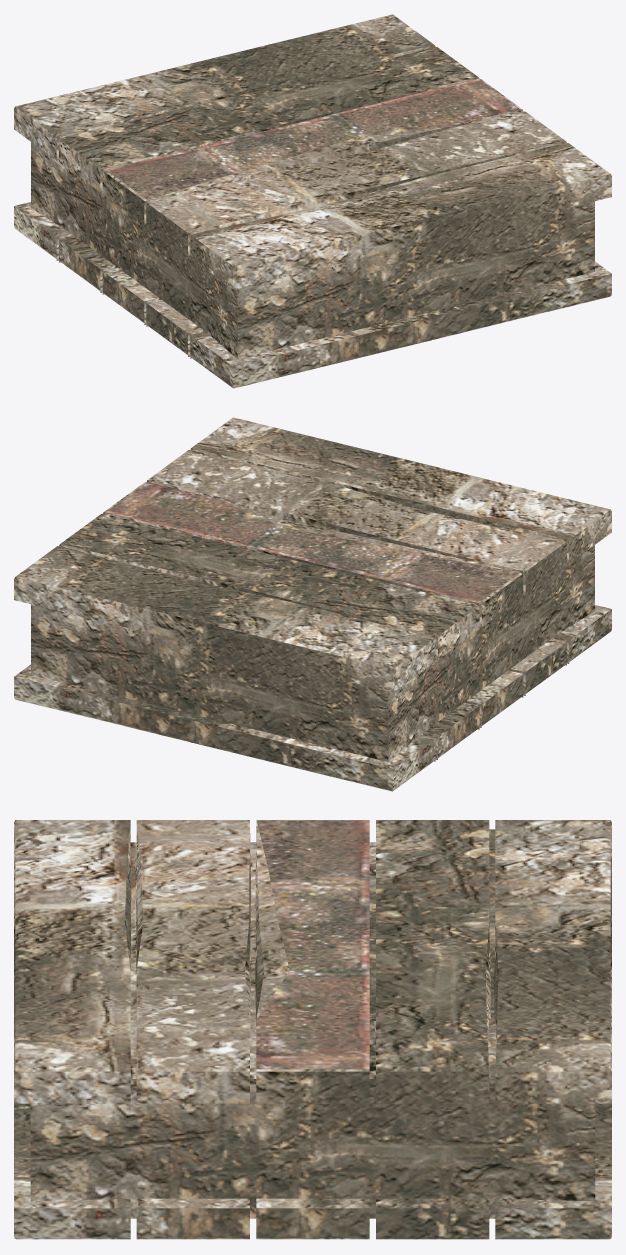
The picture shows the model from 3 angles, top to bottom: view 1: azimuth 30°, elevation 25°; view 2: azimuth 150°, elevation 25°; view 3: azimuth 270°, elevation 25°; orthographic projection. The views are drawn at different scales.
Parts seen in each view (by area): view 1: platform-stone_rocherfin-hjar-fin_0, platform-stone_hjar-mid-fin_0, platform-stone_Material #2_0; view 2: platform-stone_rocherfin-hjar-fin_0, platform-stone_hjar-mid-fin_0, platform-stone_Material #2_0; view 3: platform-stone_rocherfin-hjar-fin_0, platform-stone_hjar-mid-fin_0, platform-stone_Material #2_0.
Part boxes in pixels (<box>): platform-stone_rocherfin-hjar-fin_0: <box>14,14,611,388</box>; platform-stone_hjar-mid-fin_0: <box>31,49,611,358</box>; platform-stone_Material #2_0: <box>106,78,519,199</box>; platform-stone_rocherfin-hjar-fin_0: <box>14,417,611,791</box>; platform-stone_hjar-mid-fin_0: <box>14,545,594,761</box>; platform-stone_Material #2_0: <box>106,481,519,602</box>; platform-stone_rocherfin-hjar-fin_0: <box>14,820,611,1218</box>; platform-stone_hjar-mid-fin_0: <box>14,829,611,1239</box>; platform-stone_Material #2_0: <box>256,820,369,1069</box>.
Size of the model in its own units: 98.43 by 30.83 by 98.43.
Materials: 3 (3 with a texture image).
